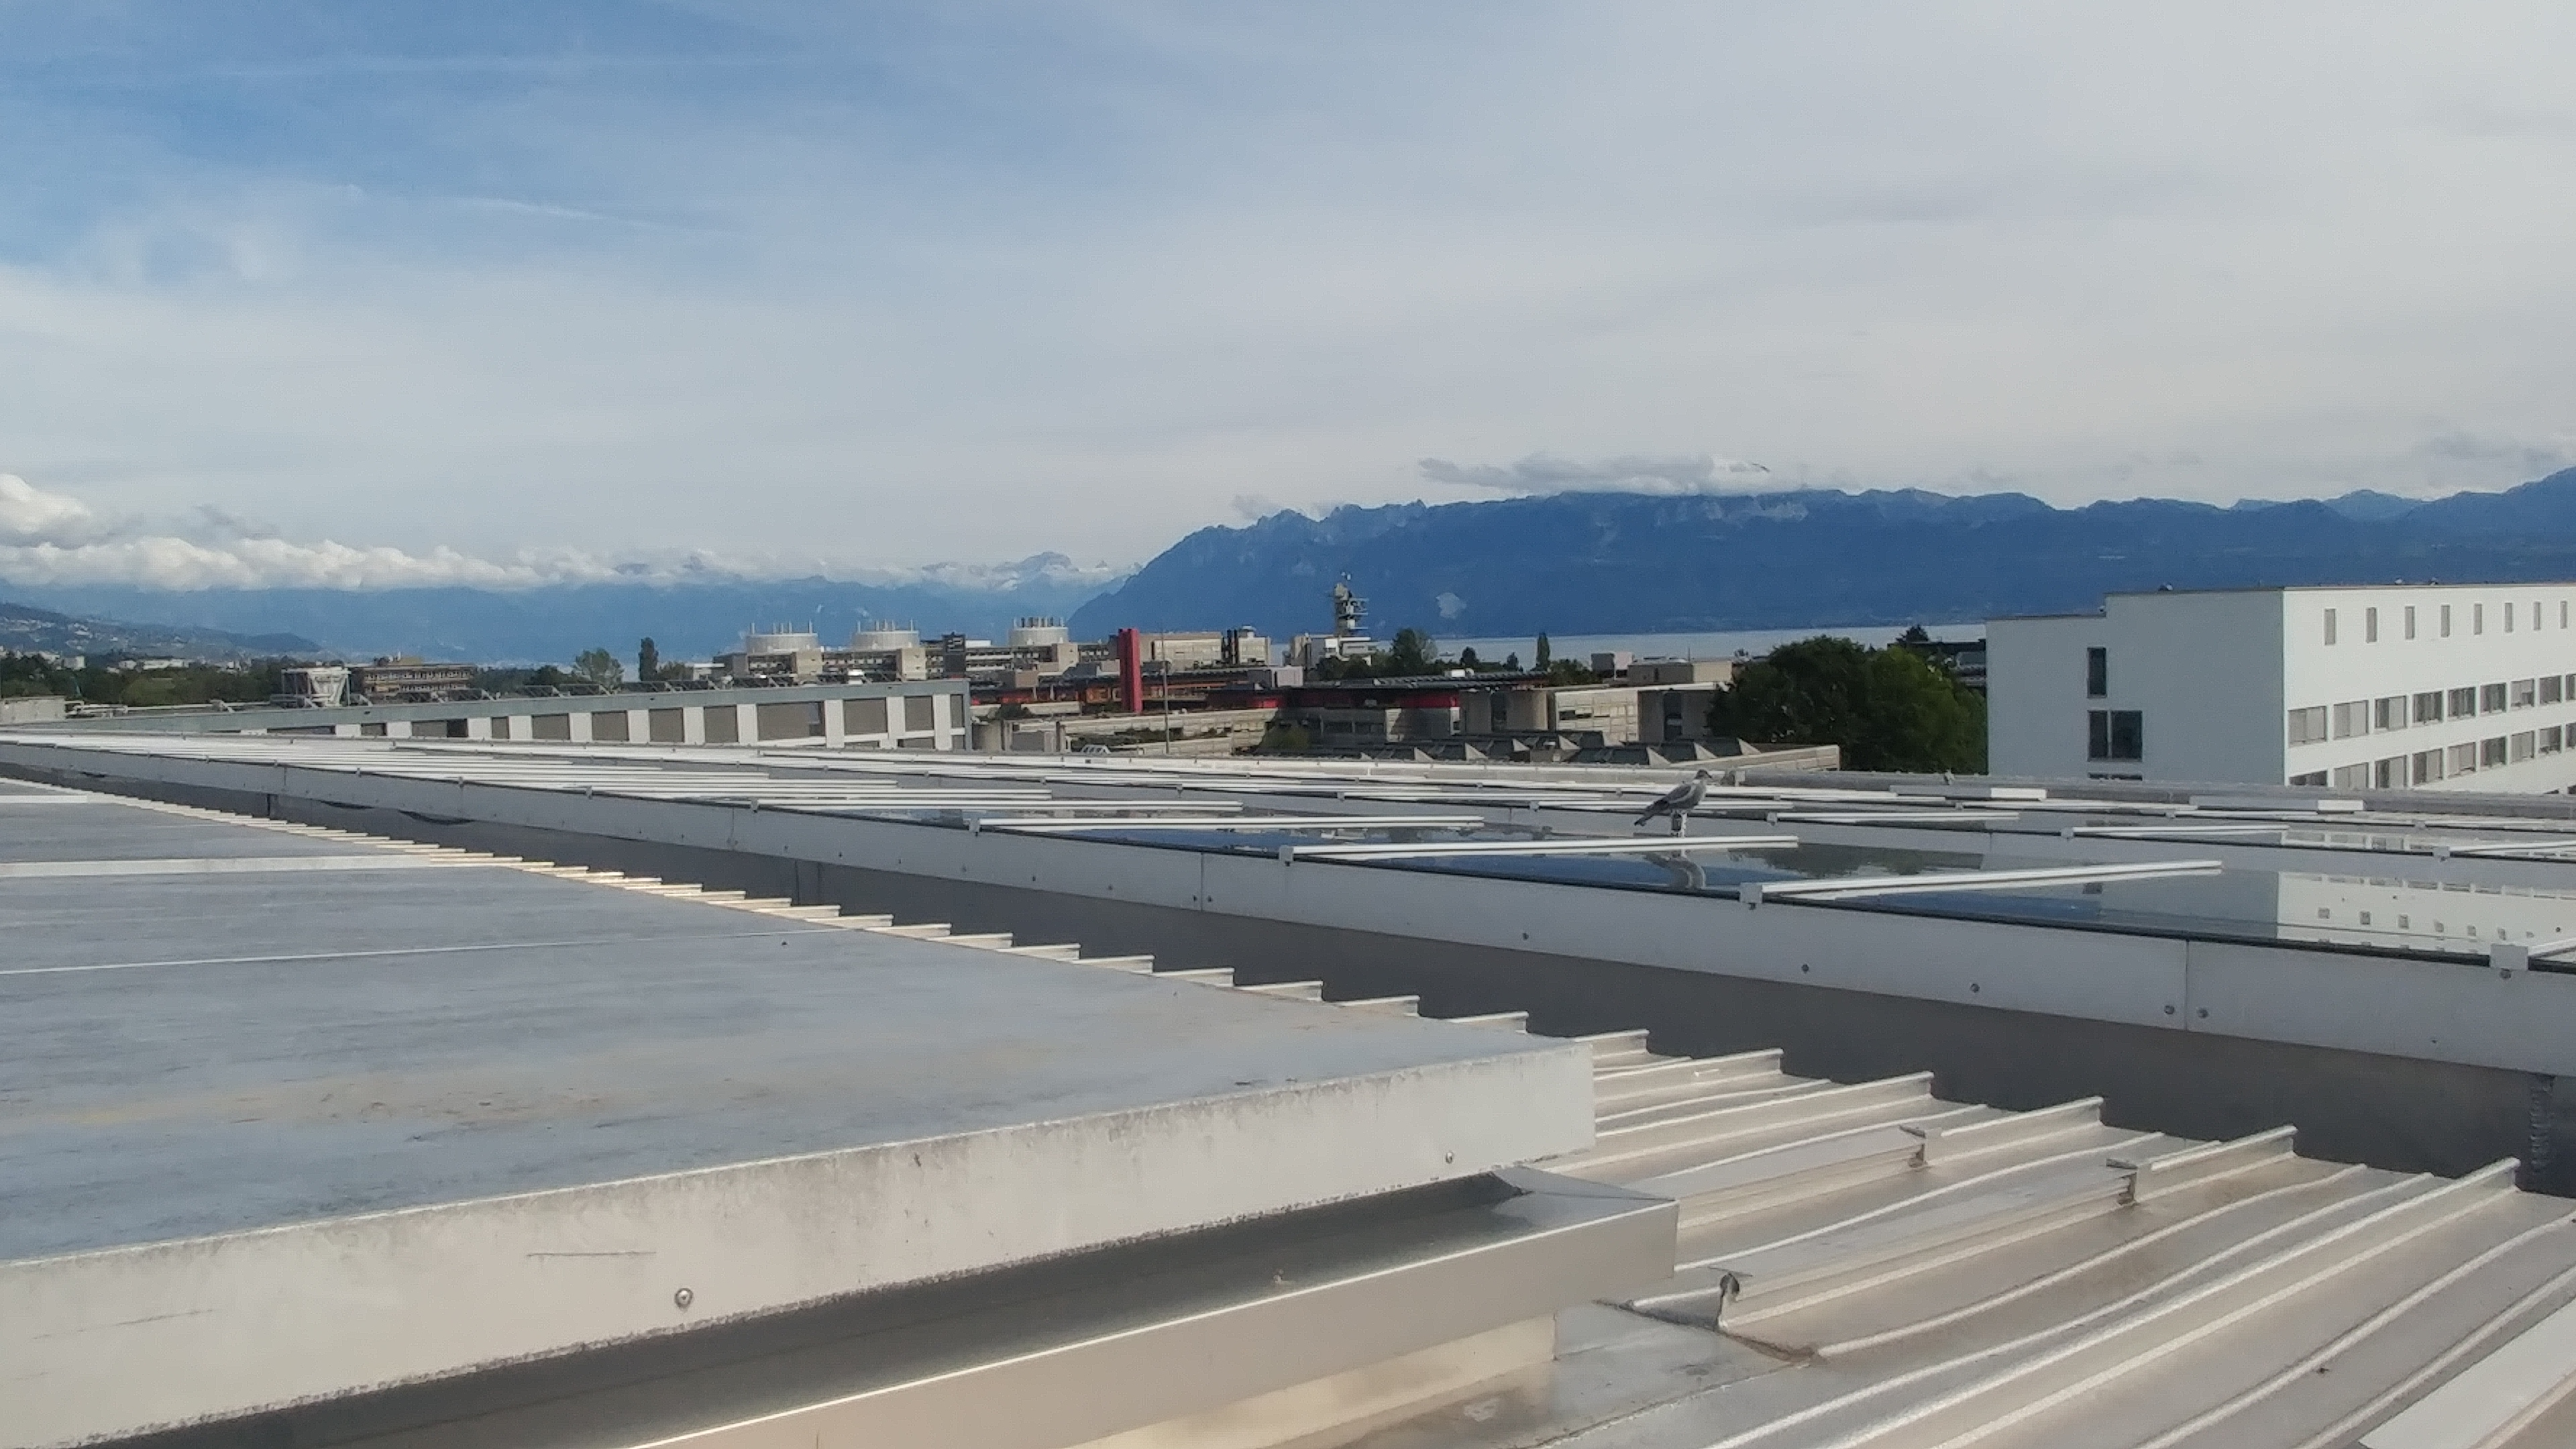Pigeon: (1633, 766, 1714, 837)
